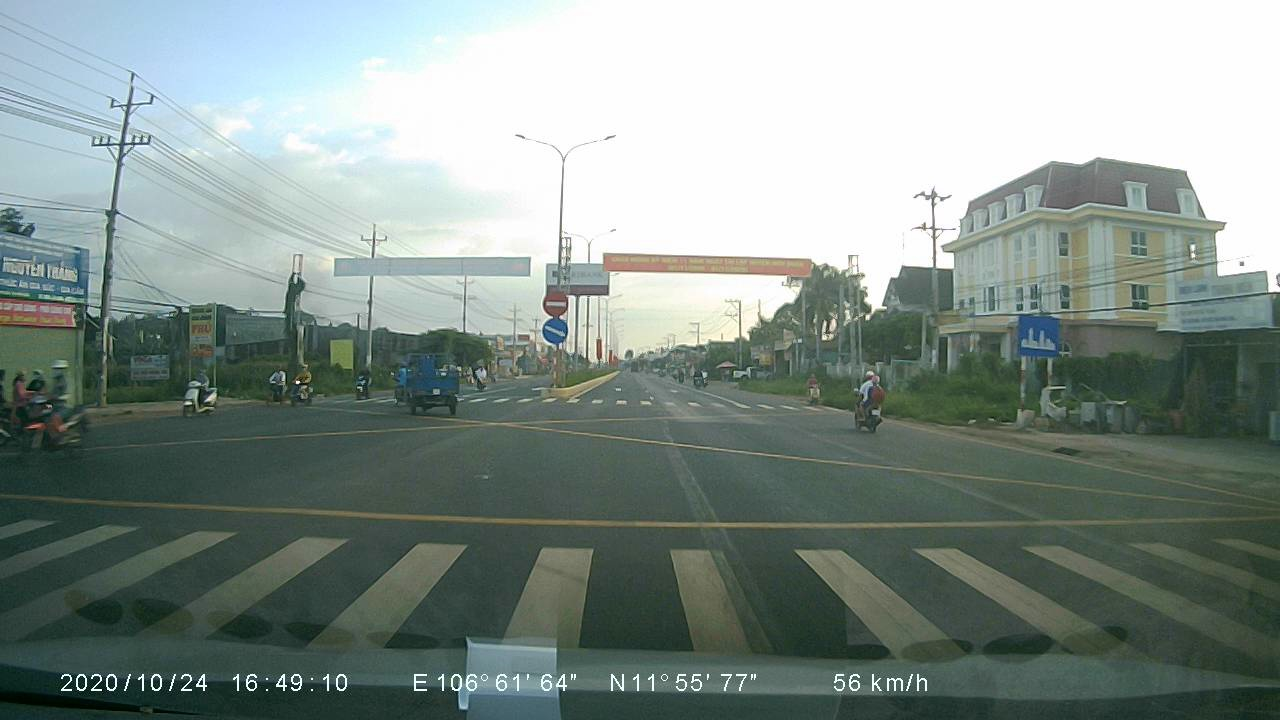Bien khac: (1017, 311, 1064, 361)
Cam di nguoc chieu: (539, 285, 574, 315)
Huong di phai re phai: (540, 315, 572, 343)
